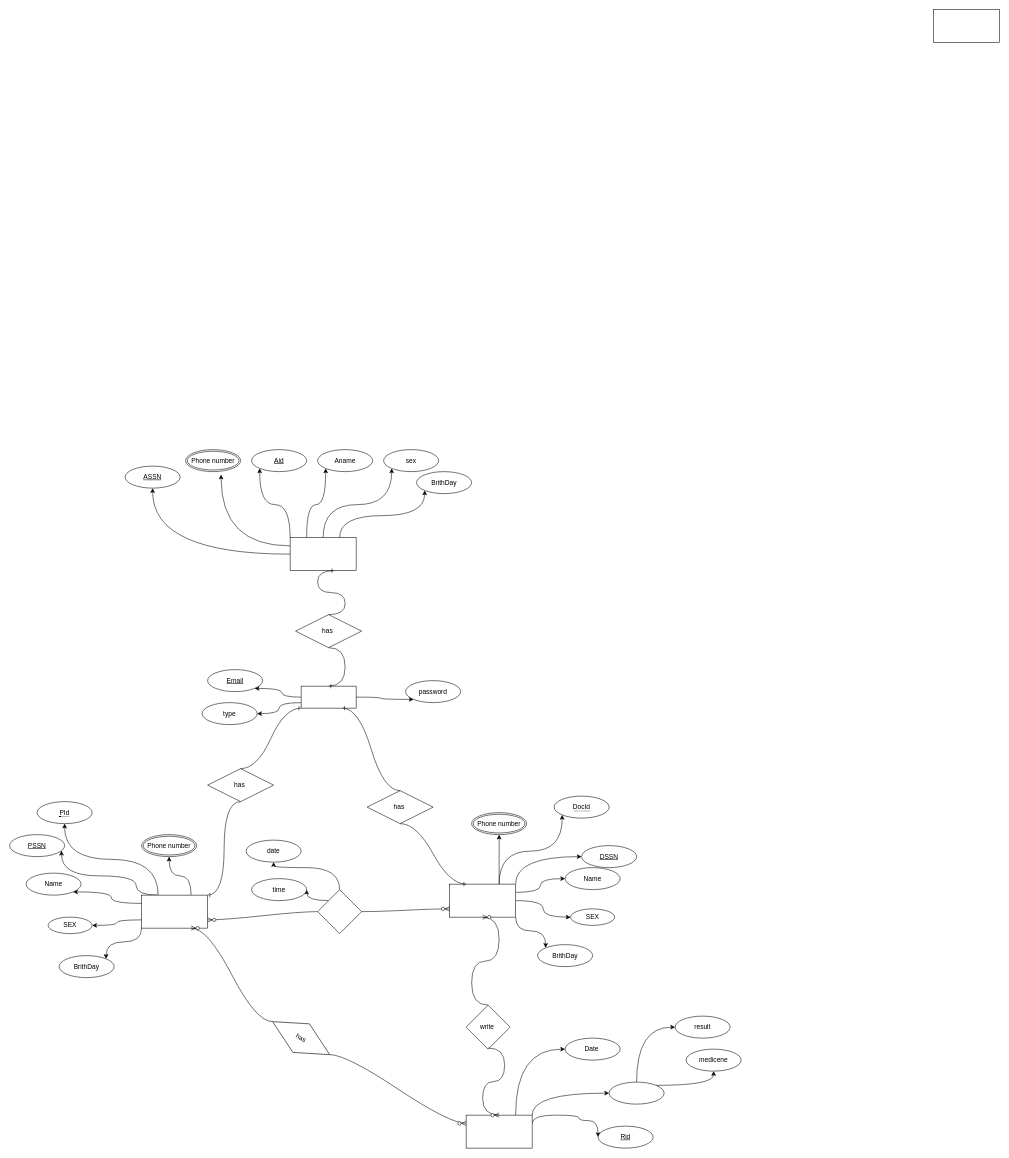
This 1009x1158 diagram has some shape labels left out. The shapes that lost their labels are listed below. From the top down, each one's box as (x1, y1, x2, y2) in pixels, then its label:
(290, 537, 356, 571): Admin
(301, 686, 356, 708): Acount
(141, 895, 208, 928): patient
(317, 889, 362, 934): test
(449, 884, 516, 917): Doctor
(609, 1082, 664, 1104): content
(466, 1115, 532, 1148): Report
